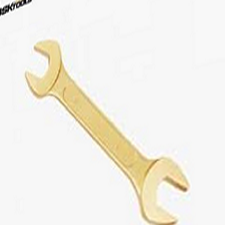Wrench: (15, 33, 195, 223)
